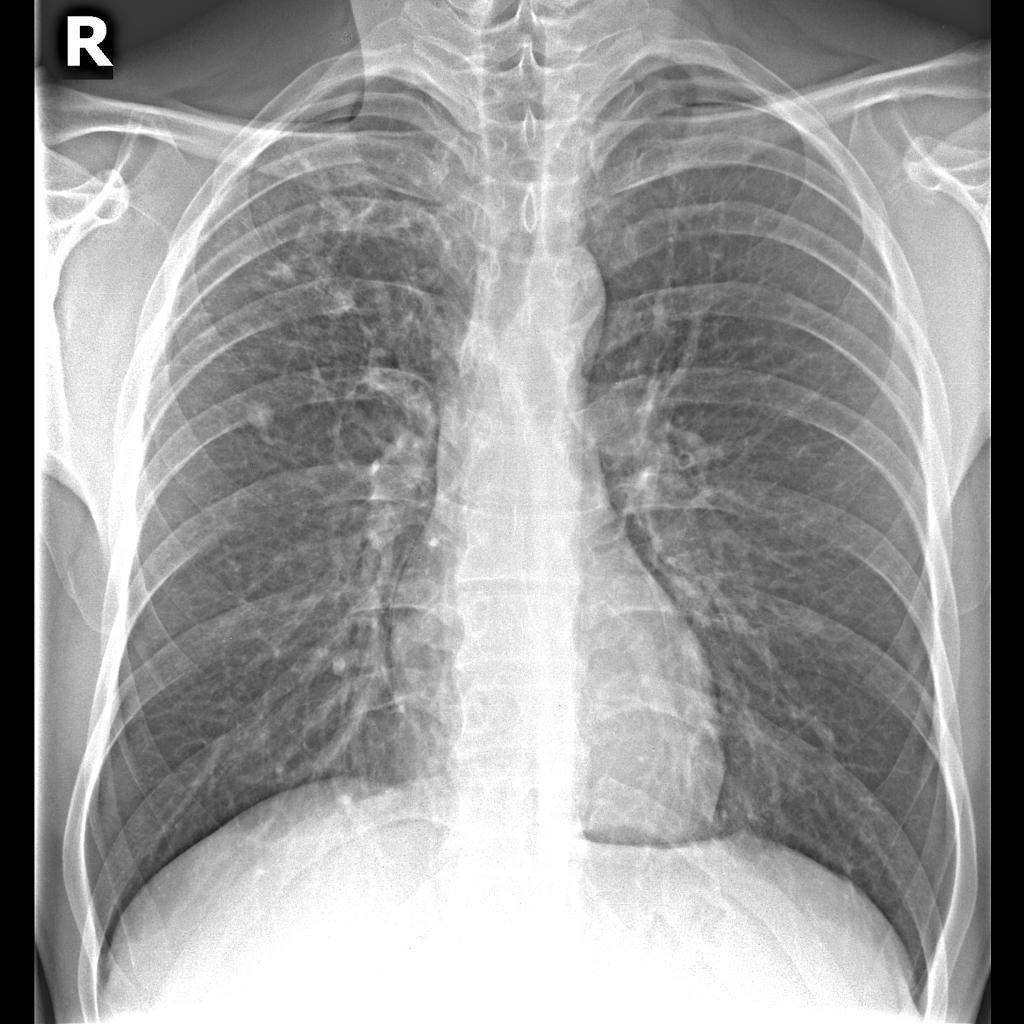Nodule: (235, 395, 283, 443)
